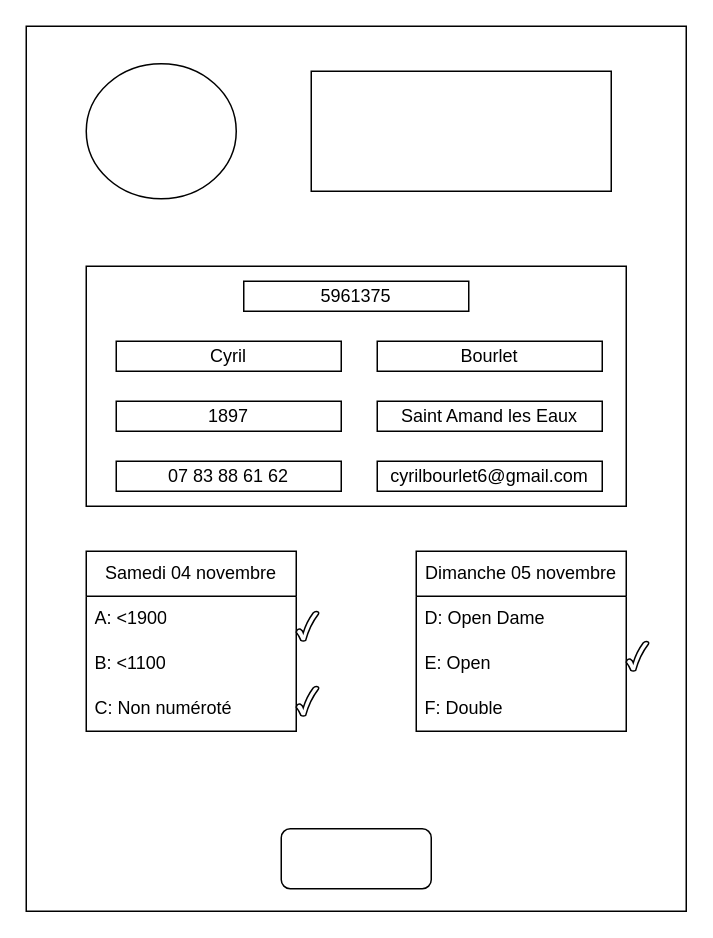
Some shapes in this 713 by 938 pixel diagram are drawn without their labels. The centre of each missing label's shape, as x and y in pixels:
Envoyer: the point at 355,858
Logo: the point at 160,130
Tournoi de Saint Laurent Blangy: the point at 460,130
